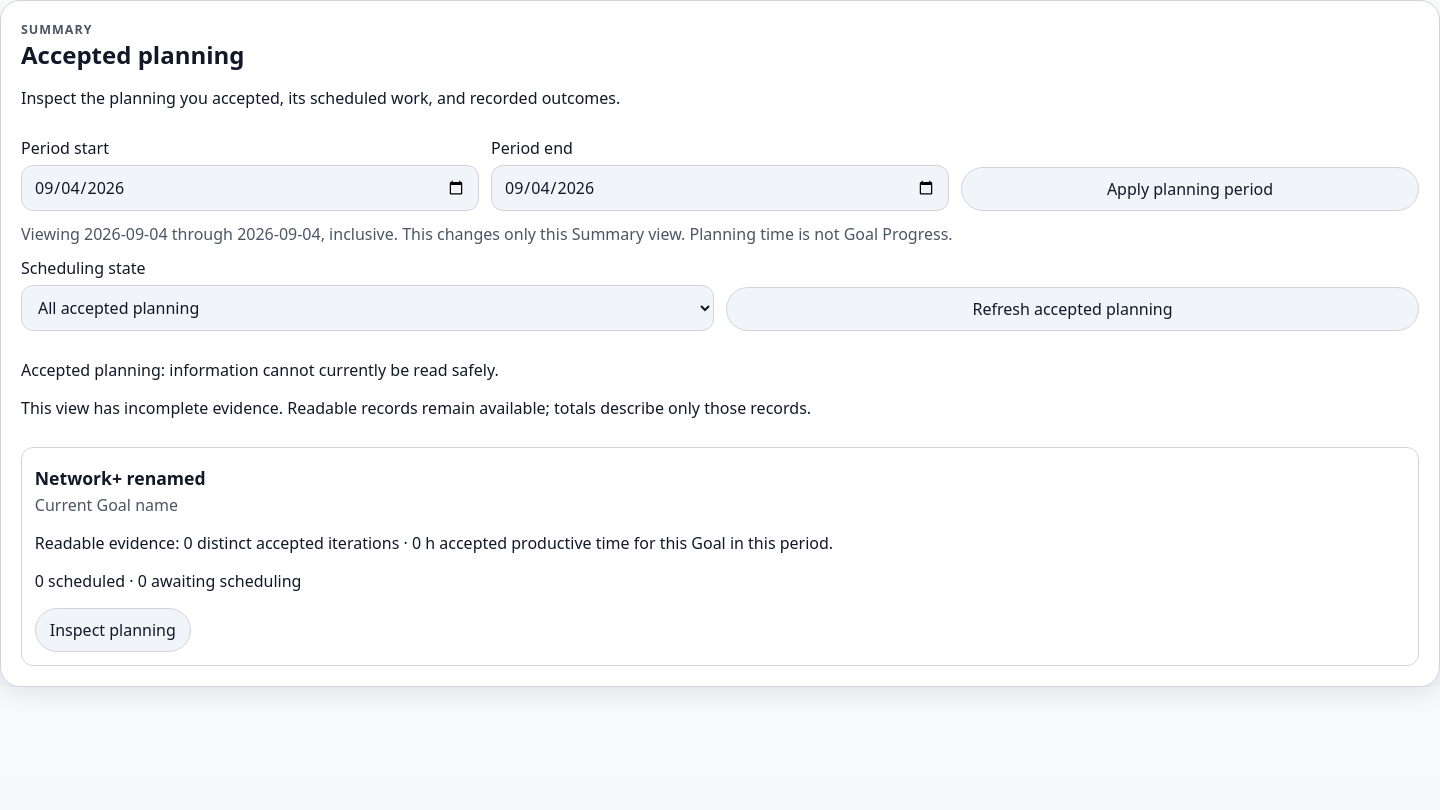
Scenario: keeps retained facts when accepted authority is protected and does not reconstruct acceptance
Click the button named "Inspect planning:": (113, 630) top-left (35, 608), bottom-right (191, 652)
(page scrolled)
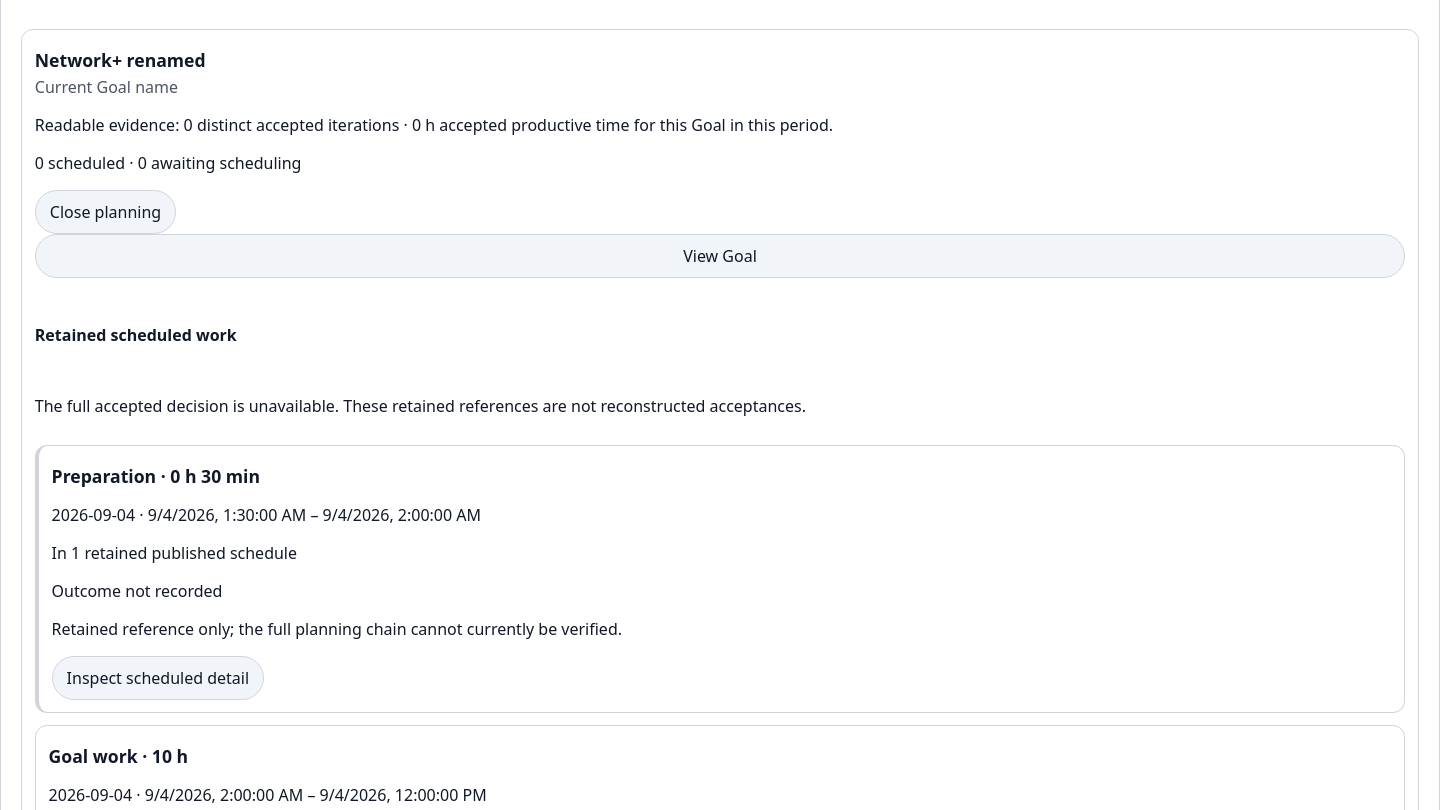
Now the heading "Retained scheduled work" is shown, box top-left (35, 324), bottom-right (237, 346)
Now the text "full accepted decision is unavailable" is shown, box top-left (35, 395), bottom-right (806, 417)
